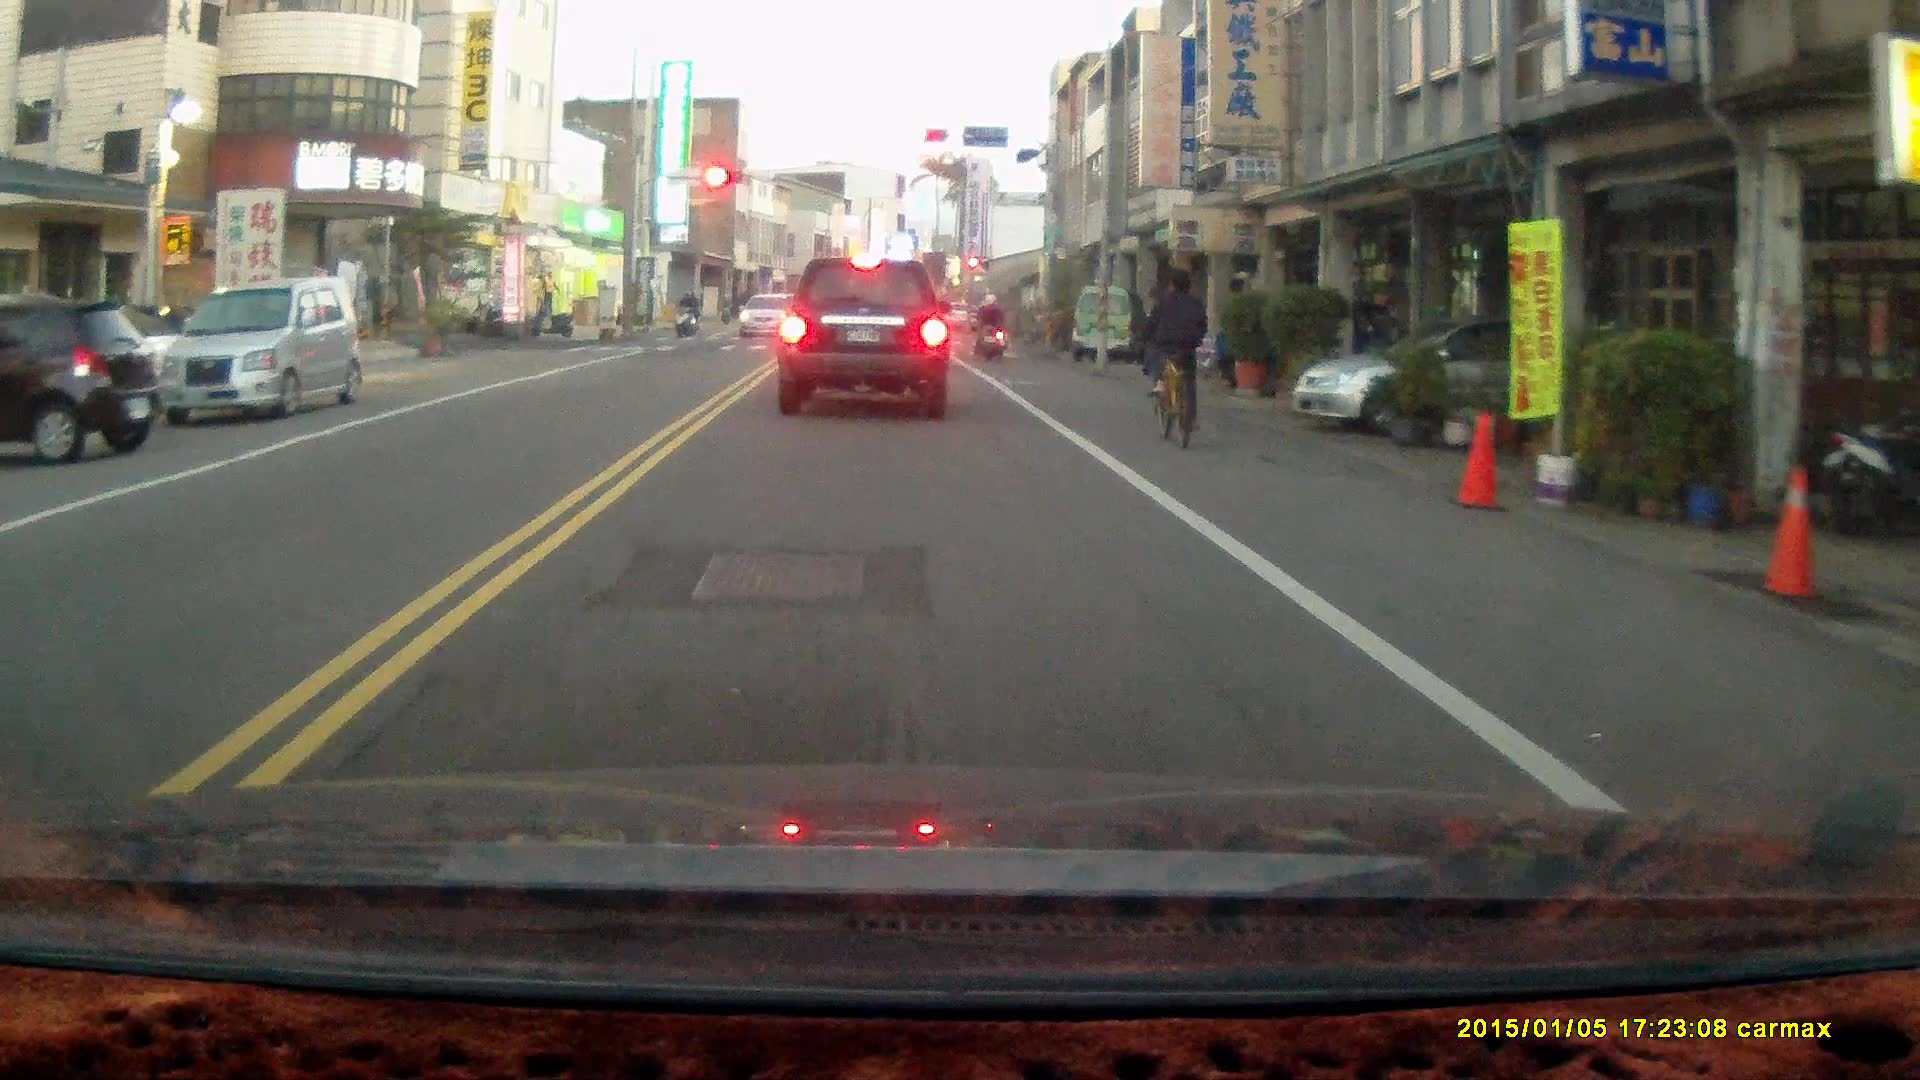pedestrian: (538, 268, 558, 315)
rider: (1141, 267, 1209, 448), (972, 287, 1008, 359), (673, 288, 699, 339)
vehicle: (1290, 315, 1643, 435), (158, 275, 363, 425), (774, 253, 953, 421), (1, 295, 164, 466), (1069, 288, 1143, 365)
